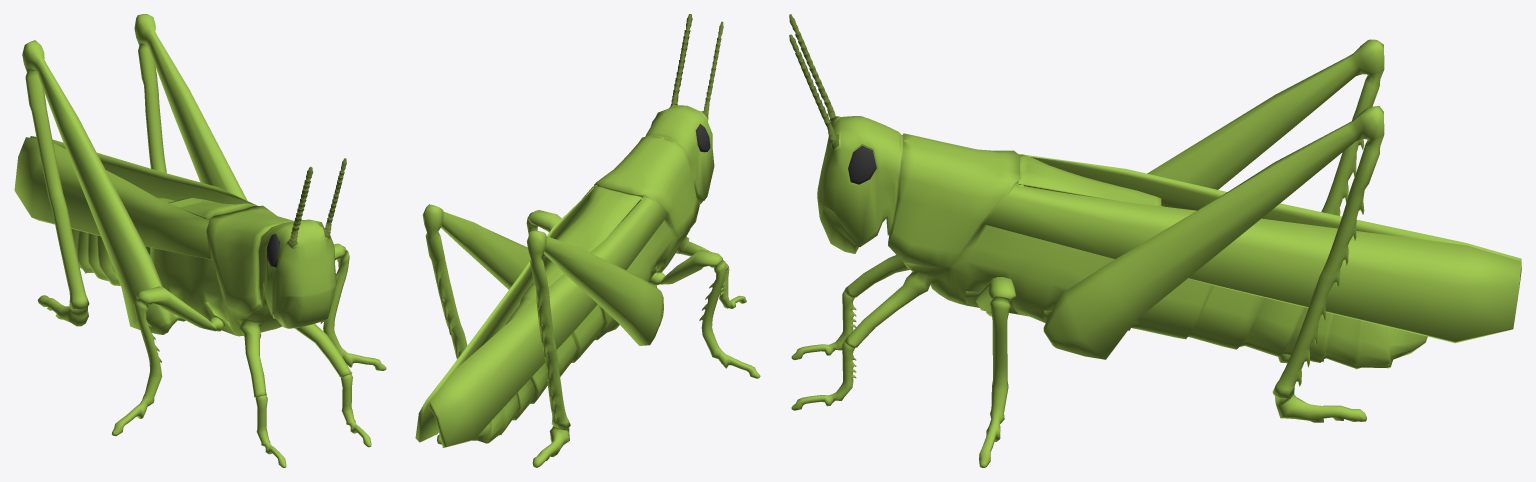
File: Grasshopper.fbx
3 views of the same model, side by side, from view 1: azimuth 30°, elevation 25°; view 2: azimuth 150°, elevation 25°; view 3: azimuth 270°, elevation 25° (orthographic). The views are drawn at different scales.
Visible parts, largest first — view 1: criquet; view 2: criquet; view 3: criquet.
Part boxes in pixels (left/top/right/bottom): criquet: left=14, top=14, right=386, bottom=467; criquet: left=415, top=14, right=760, bottom=467; criquet: left=789, top=14, right=1521, bottom=467.
Bounding box in the file's own units: 461 × 484 × 876.
1 material, 1 textured.
